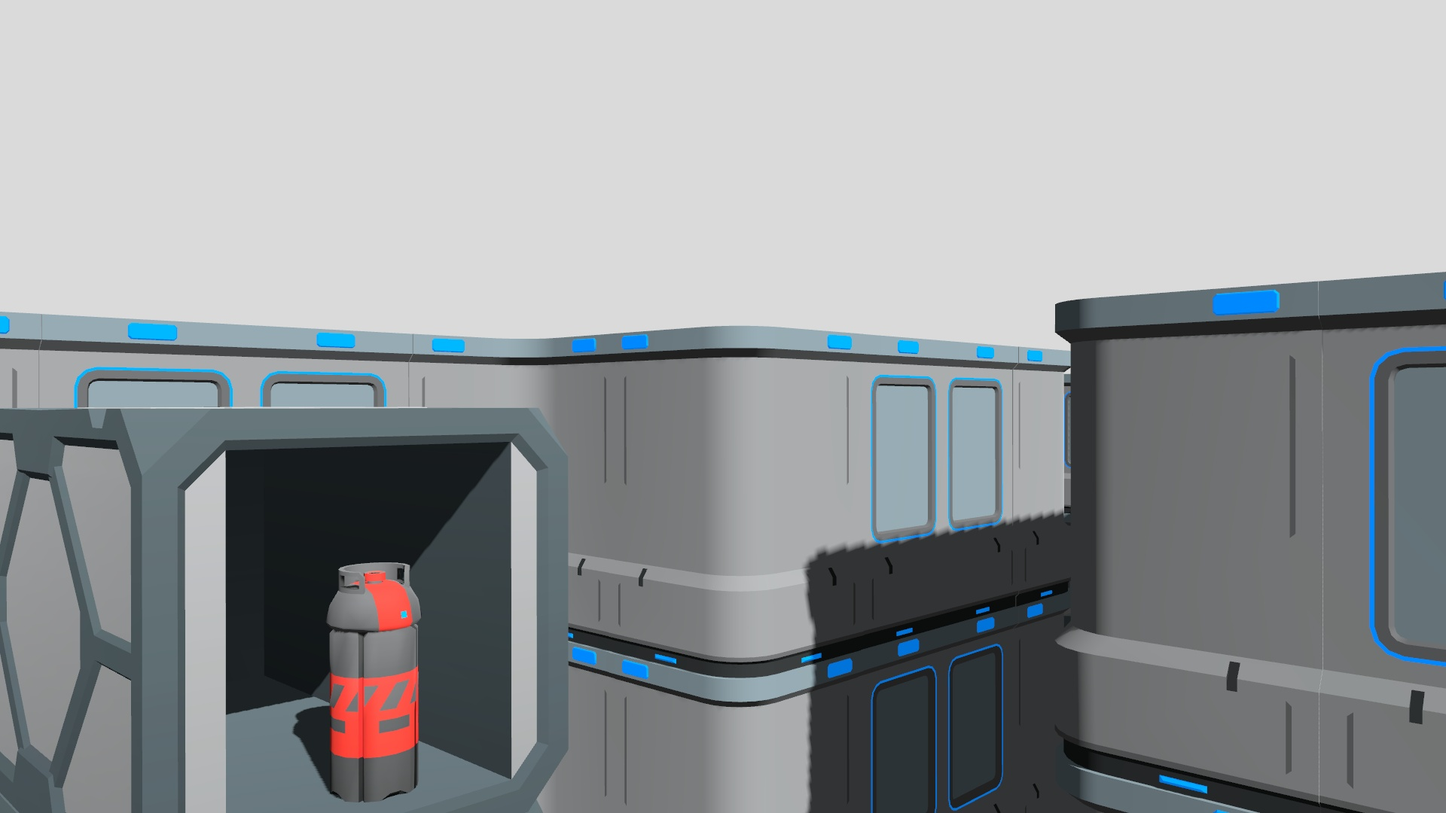red_barrel: (325, 558, 427, 807)
